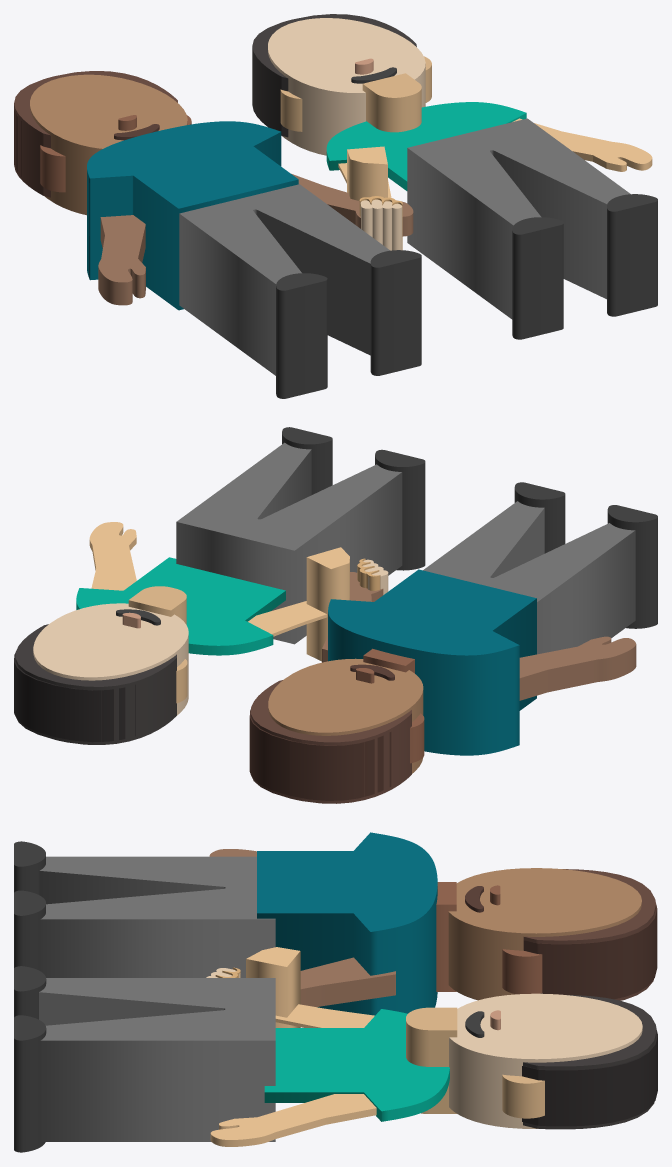
The model's file is emoji_u1f468_1f3fd_200d_1f91d_200d_1f468_1f3fb.glb.
3 renders of one model, top to bottom at view 1: azimuth 30°, elevation 25°; view 2: azimuth 150°, elevation 25°; view 3: azimuth 270°, elevation 25°, orthographic. The views are drawn at different scales.
Visible parts, largest first — view 1: emoji_u1f468_1f3fd_200d_1f91d_200d_1f468_1f3fb; view 2: emoji_u1f468_1f3fd_200d_1f91d_200d_1f468_1f3fb; view 3: emoji_u1f468_1f3fd_200d_1f91d_200d_1f468_1f3fb.
Part boxes in pixels (x1,y1,x2,y2): emoji_u1f468_1f3fd_200d_1f91d_200d_1f468_1f3fb: (14,14,657,398); emoji_u1f468_1f3fd_200d_1f91d_200d_1f468_1f3fb: (14,427,657,803); emoji_u1f468_1f3fd_200d_1f91d_200d_1f468_1f3fb: (14,832,657,1152).
Size of the model in its own units: 0.0346 by 0.0066 by 0.0334.
